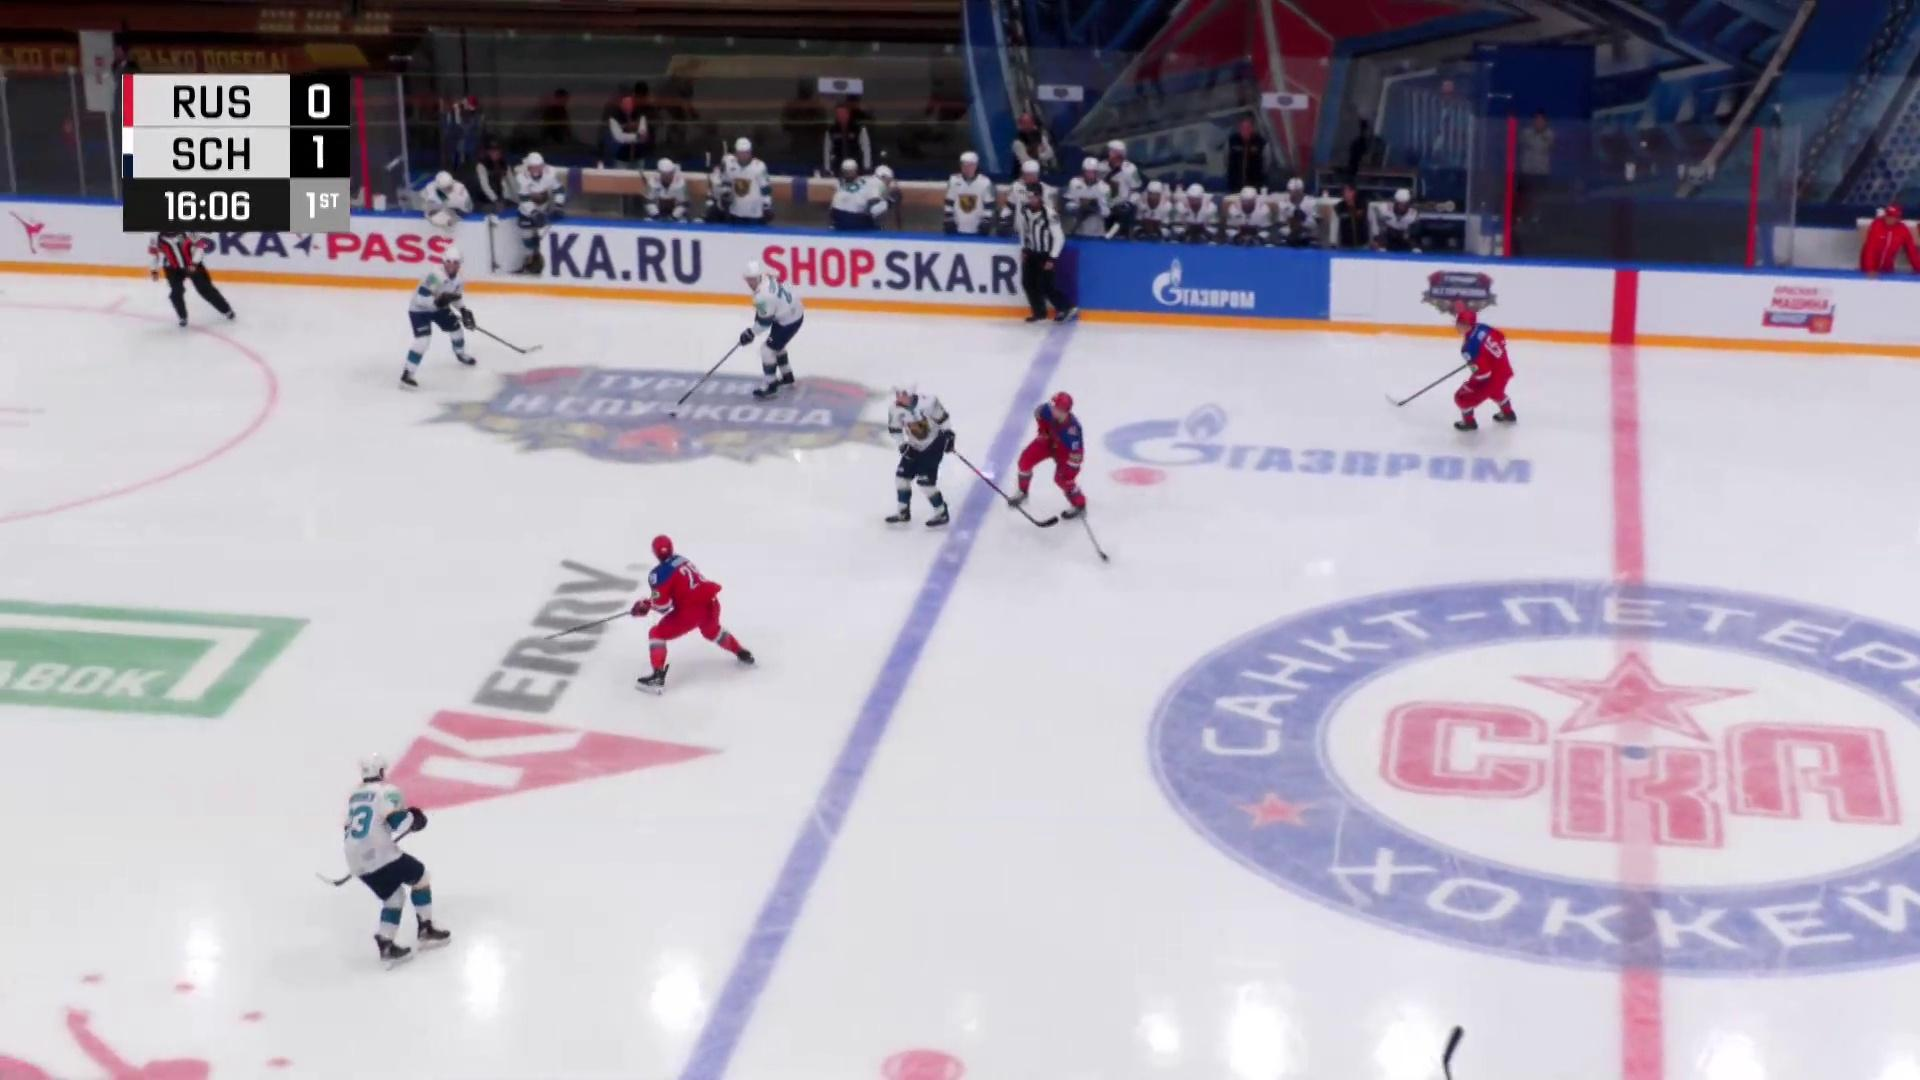ball: (669, 411, 680, 418)
